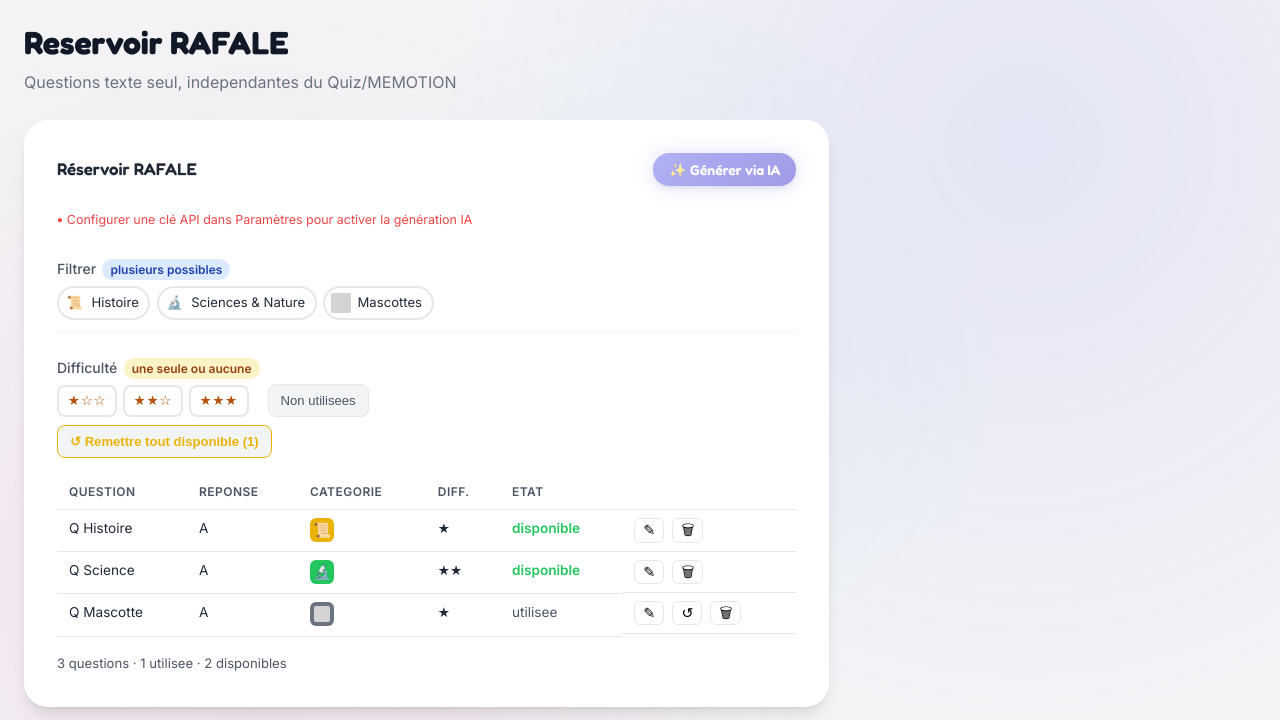
Test: RafalePage — non-régression : listing du pool sans doublon de catégories (bug QUALIF 8.0.0.2) › cliquer sur le filtre "Mascottes" (catégorie custom) fonctionne malgré le mélange de données brutes
Expected: the text "Q Histoire" is shown, [57,510,187,552]
Click the button titled "Mascottes" at (378, 303), box [323,286,434,320]
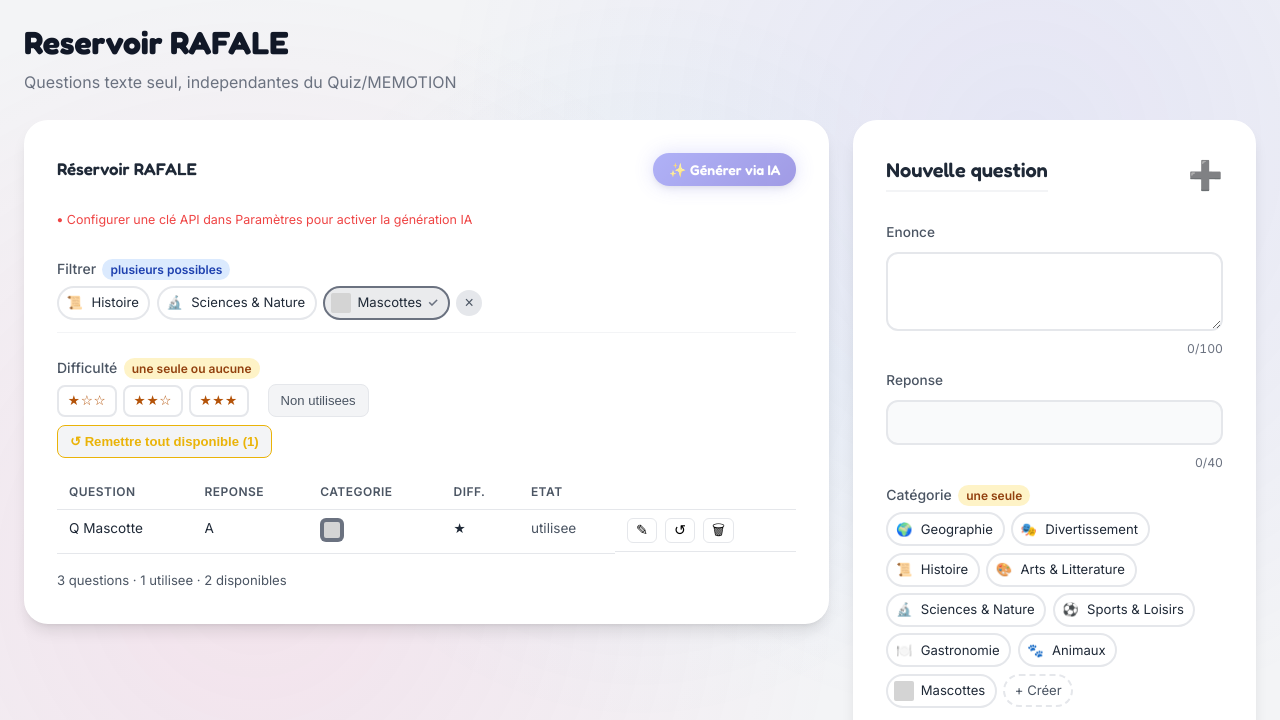
Expected: the text "Q Mascotte" is shown, [57,510,192,554]
Expected: the text "Q Histoire" is gone
Expected: the text "Q Science" is gone
